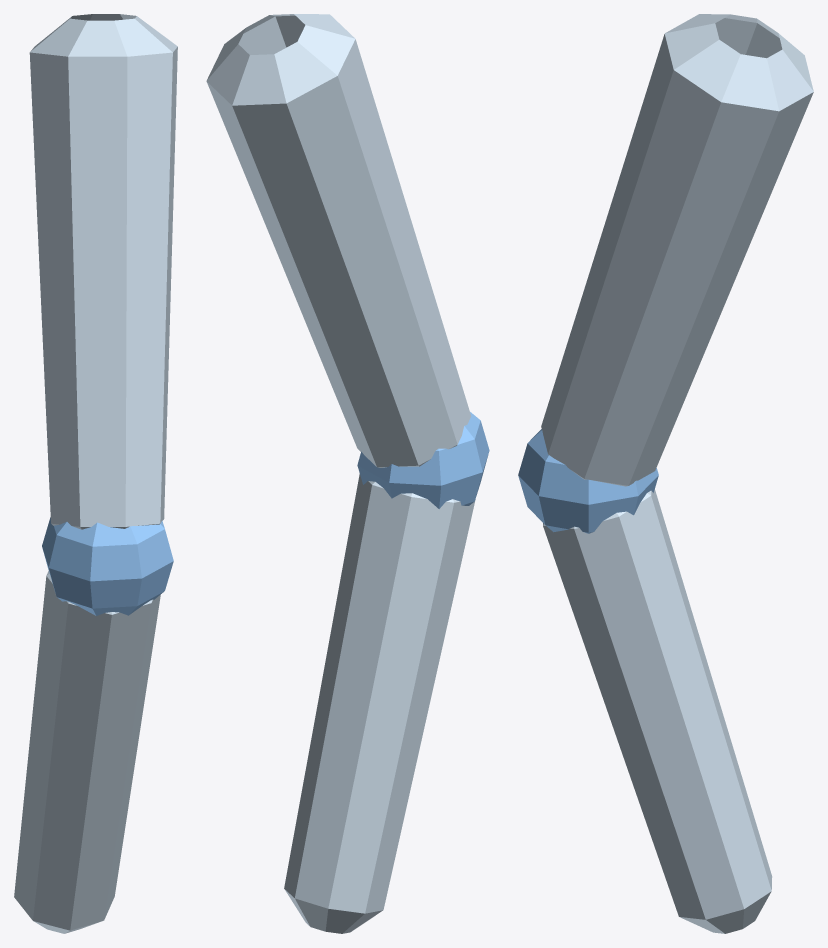
File: frost_skeleton_leg_L.obj
3 renders of one model, left to right at view 1: azimuth 30°, elevation 25°; view 2: azimuth 150°, elevation 25°; view 3: azimuth 270°, elevation 25°, orthographic. The views are drawn at different scales.
Parts seen in each view (by area): view 1: leg_upper_L, leg_lower_L, leg_joint_L; view 2: leg_upper_L, leg_lower_L, leg_joint_L; view 3: leg_upper_L, leg_lower_L, leg_joint_L.
Boxes of the visible parts, x1,y1,x2,y2 form: leg_upper_L: [29, 14, 177, 529]; leg_lower_L: [14, 571, 160, 933]; leg_joint_L: [42, 517, 173, 615]; leg_upper_L: [206, 14, 471, 467]; leg_lower_L: [284, 474, 475, 933]; leg_joint_L: [357, 412, 489, 508]; leg_upper_L: [541, 14, 813, 486]; leg_lower_L: [543, 489, 772, 933]; leg_joint_L: [518, 429, 658, 533].
Bounding box in the file's own units: 0.1666 × 0.7405 × 0.2139.
